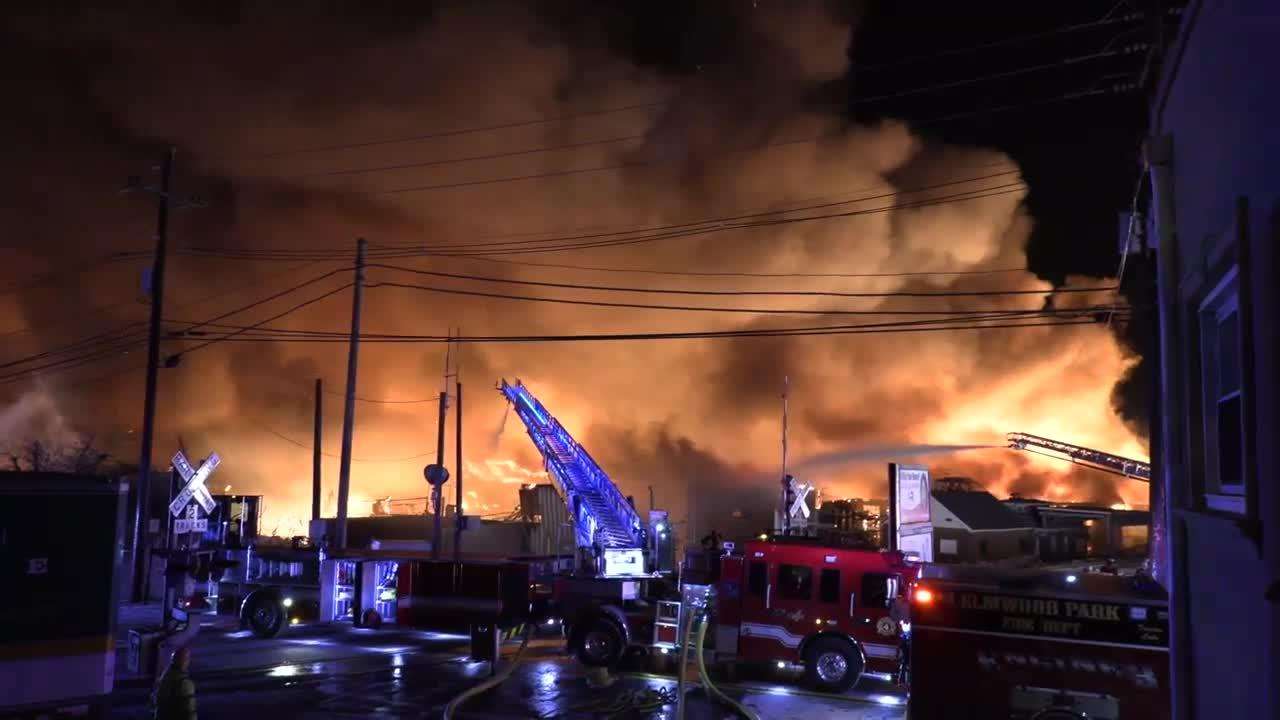Fire: (888, 351, 1112, 436), (575, 373, 750, 456), (250, 440, 312, 526)
